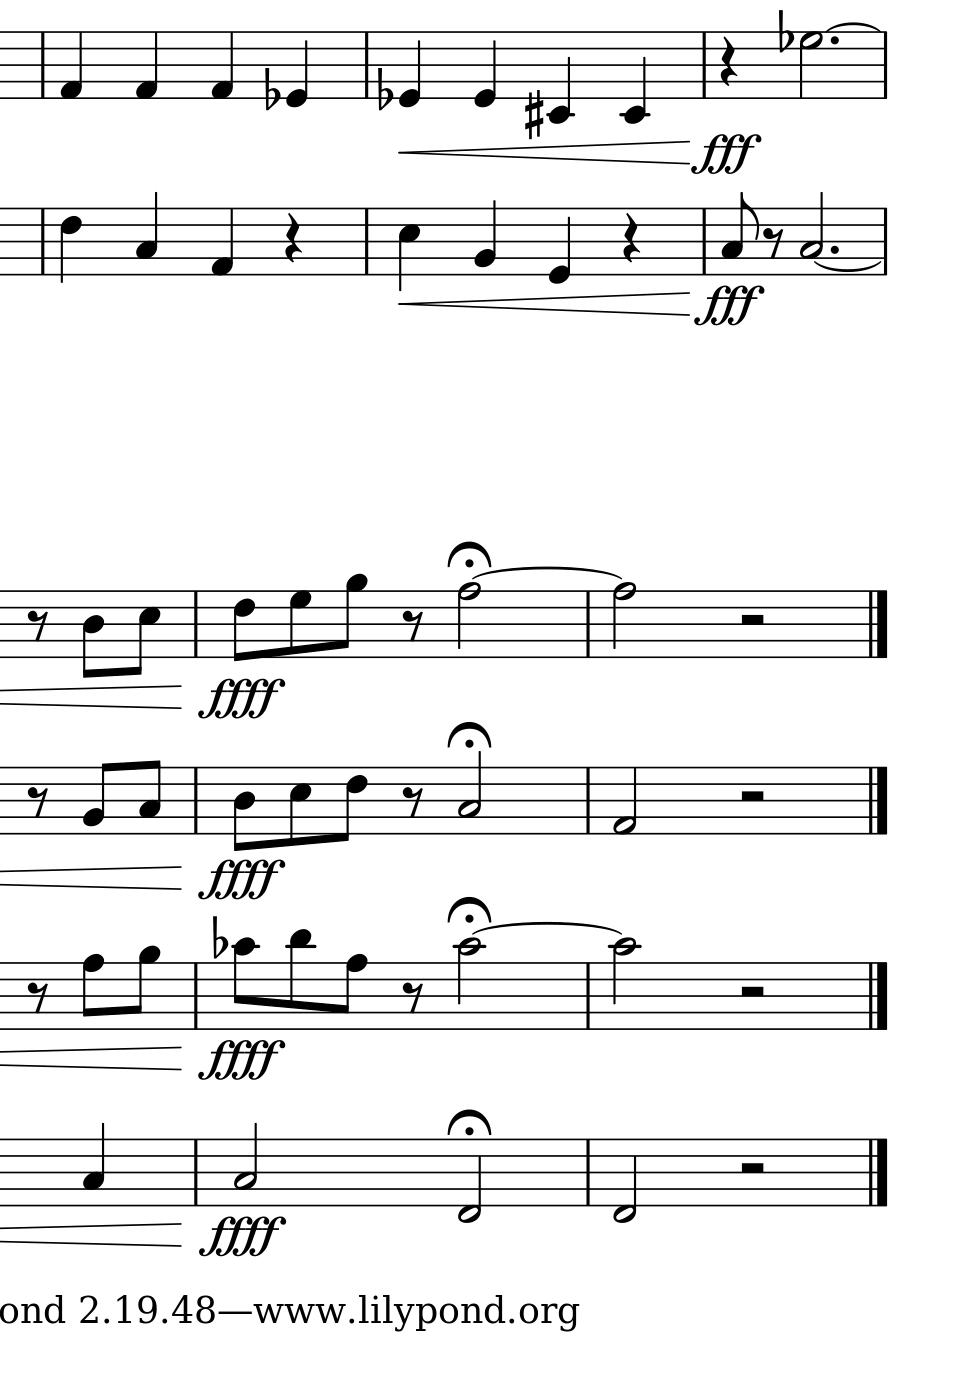2_-1: (611, 1136, 638, 1224), (456, 1136, 482, 1224)
2_1: (611, 765, 638, 837)
2_10: (453, 936, 485, 1033), (609, 935, 638, 1033)
2_3: (797, 191, 825, 278), (456, 750, 483, 836), (233, 1122, 259, 1207)
2_7: (795, 30, 824, 102)
2_8: (610, 580, 636, 660), (455, 581, 482, 660)
4_-2: (545, 28, 574, 126), (619, 29, 648, 126)
4_0: (470, 28, 498, 111), (545, 205, 573, 287), (398, 29, 423, 110), (285, 28, 310, 110)
4_1: (208, 28, 235, 100), (208, 206, 235, 278), (134, 29, 160, 101), (58, 29, 84, 101)
4_2: (472, 197, 498, 277)
4_3: (134, 189, 160, 277), (80, 1120, 106, 1206)
4_5: (396, 206, 421, 292)
4_6: (57, 206, 82, 284)
8_10: (230, 936, 259, 1032)
8_11: (285, 927, 313, 1033)
8_2: (81, 761, 113, 836)
8_3: (718, 191, 758, 276), (136, 758, 161, 836)
8_4: (230, 764, 256, 853), (81, 589, 105, 681)
8_5: (128, 589, 161, 678), (286, 765, 312, 849)
8_6: (336, 764, 368, 844), (231, 589, 256, 665)
8_7: (287, 589, 312, 659)
8_8: (335, 952, 368, 1032), (80, 952, 106, 1032)
8_9: (335, 573, 368, 660), (128, 945, 161, 1032)
Crescendo_hairpin: (398, 139, 692, 165), (396, 290, 689, 316)
Fermata_above: (445, 539, 494, 574), (444, 1107, 495, 1139), (445, 719, 495, 751), (447, 895, 494, 927)
Final_barline: (863, 766, 891, 835), (863, 961, 891, 1030), (863, 1138, 891, 1206), (863, 589, 890, 659)
Flat: (261, 65, 280, 113), (374, 65, 393, 113), (775, 10, 793, 55), (210, 914, 228, 960)
Rests2: (735, 983, 771, 1005), (734, 1159, 770, 1181), (734, 788, 770, 808), (736, 611, 769, 631)
Rests4: (618, 211, 642, 266), (281, 212, 304, 266), (717, 37, 739, 90)
Rests8: (400, 608, 425, 643), (763, 223, 786, 260), (25, 979, 50, 1014), (401, 785, 425, 819), (400, 980, 424, 1014), (27, 607, 50, 642), (27, 784, 50, 819)
Sharp: (522, 87, 544, 140)
Single_barline: (187, 766, 205, 834), (358, 208, 377, 275), (579, 591, 597, 656), (34, 32, 51, 99), (187, 591, 204, 657), (358, 32, 375, 98), (875, 32, 892, 98), (34, 208, 51, 274), (187, 1140, 204, 1206), (876, 207, 892, 276), (696, 32, 712, 99), (696, 208, 712, 275), (188, 963, 204, 1030), (580, 768, 596, 834), (580, 1140, 596, 1205), (580, 964, 596, 1028)
Slur: (470, 567, 620, 581), (472, 922, 622, 933), (813, 261, 883, 273), (823, 21, 881, 33)
dot: (826, 35, 840, 48), (827, 242, 840, 256)
fff: (689, 130, 764, 176), (692, 283, 766, 329)
ffff: (199, 855, 285, 901), (199, 674, 283, 722), (198, 1037, 283, 1081)
fffff: (198, 1214, 288, 1258)
